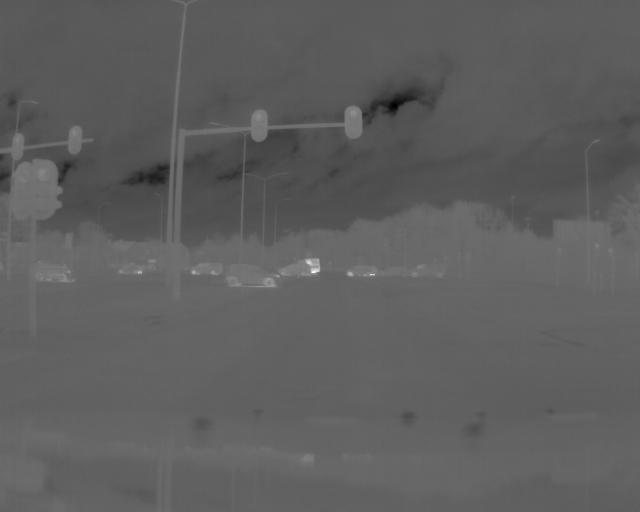car: (221, 262, 284, 293), (188, 258, 221, 279), (345, 262, 380, 279)
